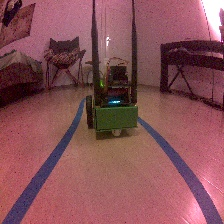rob: (84, 64, 139, 137)
